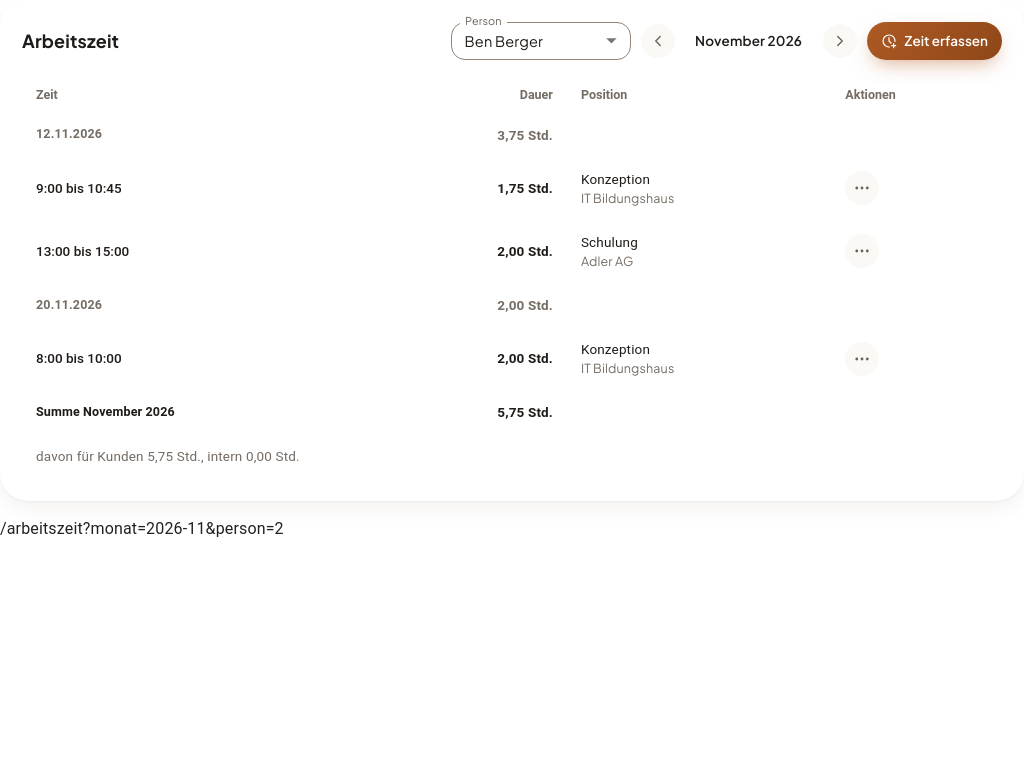
Scenario: ArbeitszeitPage — Personen (Plan #426, E10, E14, E17) › belegt im Dialog die umgeschaltete Person vor (Kriterium 3 von #410)
Click the button "Zeit erfassen" at (934, 41), box 867,22 -> 1002,60
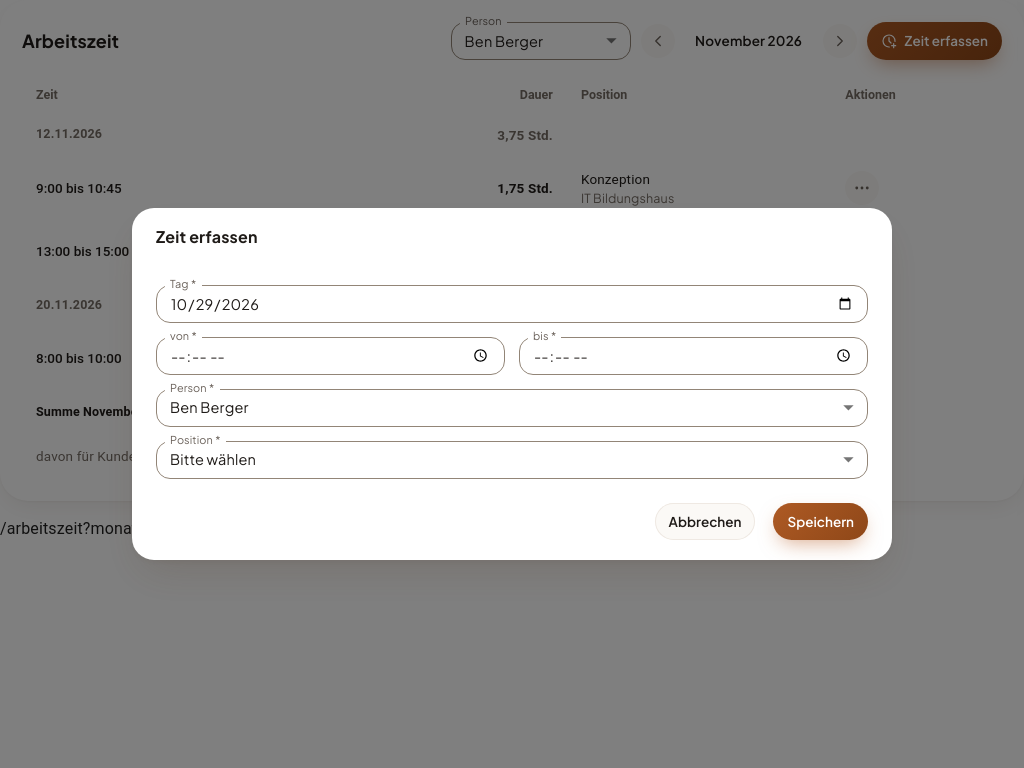
Now the dropdown labelled "Person" shows "Ben Berger", box 156,389 -> 868,427
